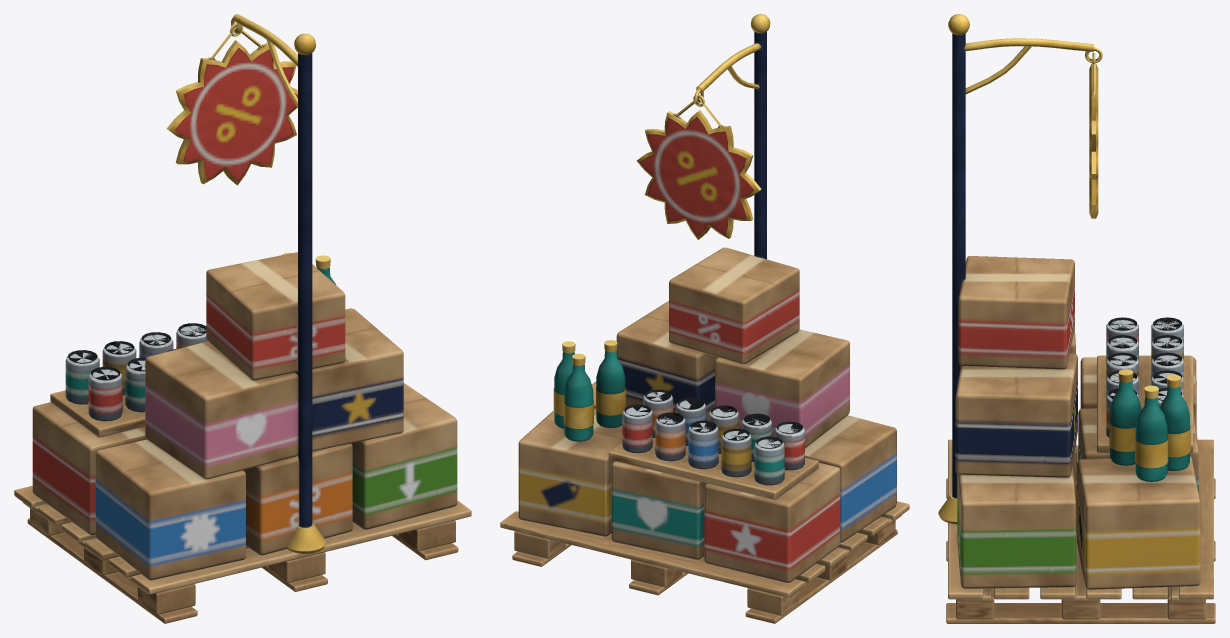
File: promo-stand.fbx
The picture shows the model from 3 angles, left to right: view 1: azimuth 30°, elevation 25°; view 2: azimuth 150°, elevation 25°; view 3: azimuth 270°, elevation 25°; orthographic projection. The views are drawn at different scales.
Parts seen in each view (by area): view 1: Body; view 2: Body; view 3: Body.
Boxes of the visible parts, left/top/right/bottom form: Body: left=14, top=14, right=471, bottom=623; Body: left=500, top=14, right=909, bottom=623; Body: left=938, top=14, right=1215, bottom=623.
Size of the model in its own units: 1.14 by 1.85 by 0.865.
